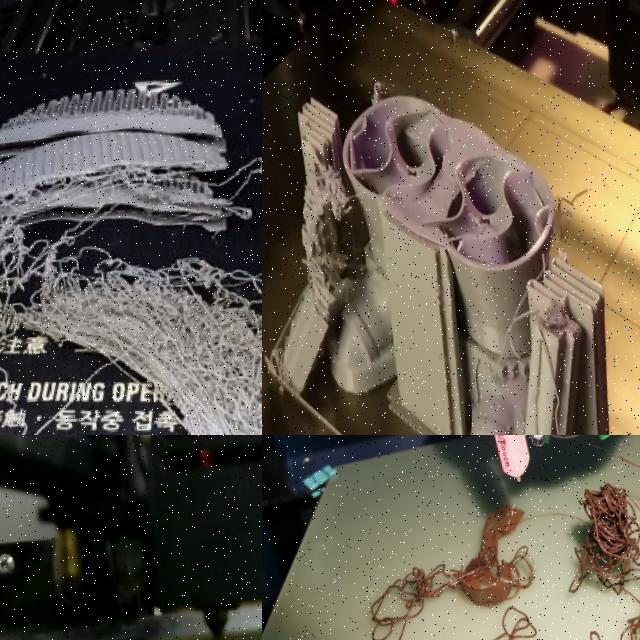spaghetti: (345, 500, 564, 640), (485, 279, 609, 435), (554, 435, 640, 640), (262, 314, 316, 435), (548, 182, 592, 260), (315, 162, 359, 224), (366, 70, 394, 118)
